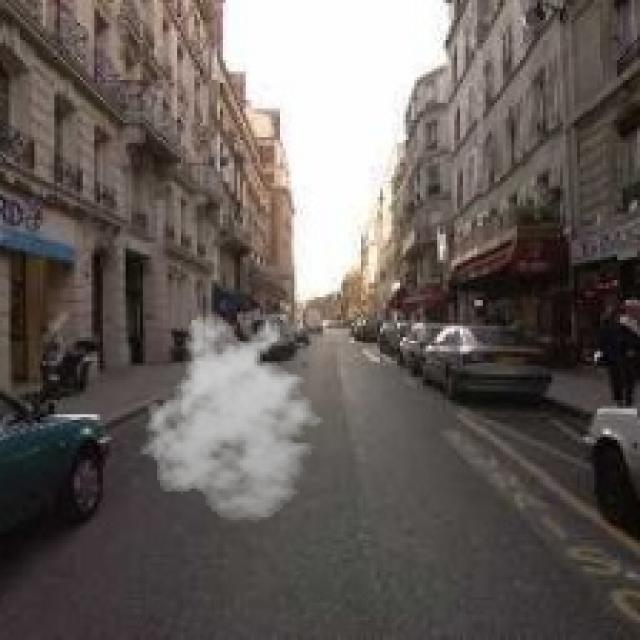smoke: (134, 311, 334, 523)
